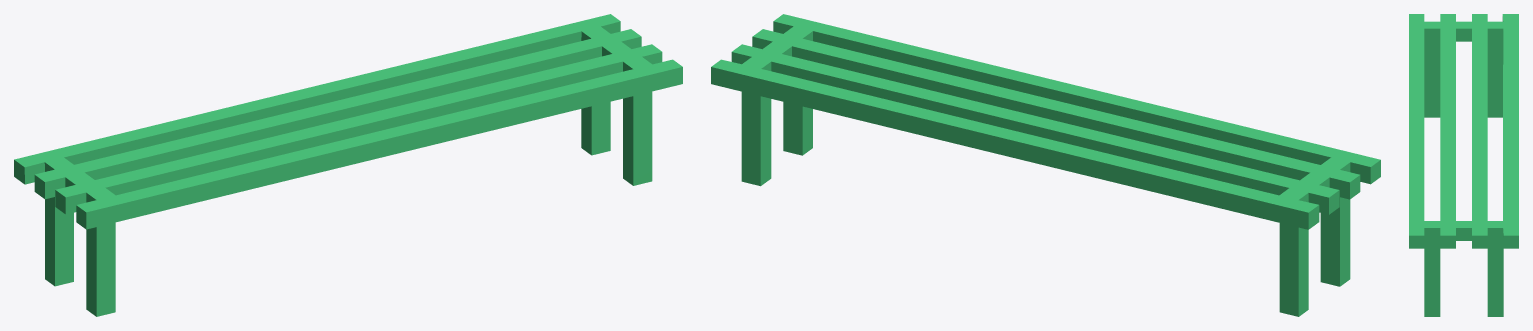
Rendered from Chair.fbx.
The picture shows the model from 3 angles, left to right: view 1: azimuth 30°, elevation 25°; view 2: azimuth 150°, elevation 25°; view 3: azimuth 270°, elevation 25°; orthographic projection. The views are drawn at different scales.
Parts seen in each view (by area): view 1: Chair; view 2: Chair; view 3: Chair.
Boxes of the visible parts, x1=… form: Chair: x1=14, y1=14, x2=682, y2=316; Chair: x1=711, y1=14, x2=1380, y2=316; Chair: x1=1409, y1=14, x2=1518, y2=316.
Size of the model in its own units: 756 by 142 by 159.
